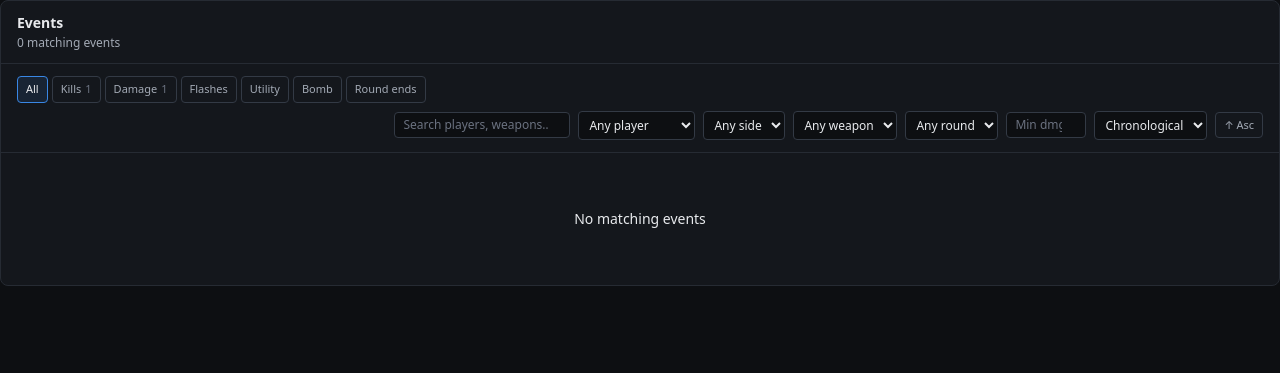
Scenario: EventsTab › offers a way out of an over-filtered view
Click the button "Kills1".
click(76, 89)  # box x1=52 y1=76 x2=101 y2=102
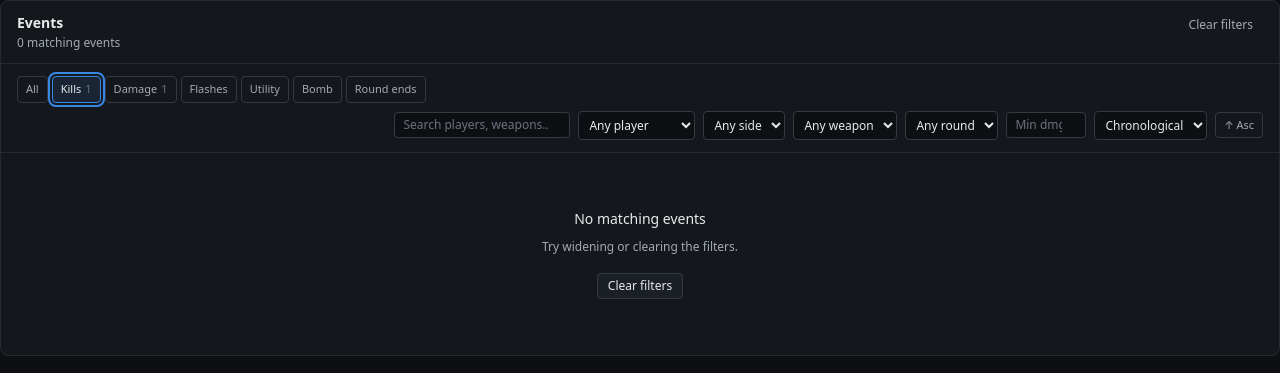
Expected: the text "No matching events" is shown, x1=574 y1=208 x2=706 y2=228
Now the button "Clear filters" below "Try widening or clearing the filters." is shown, box x1=597 y1=273 x2=683 y2=299
